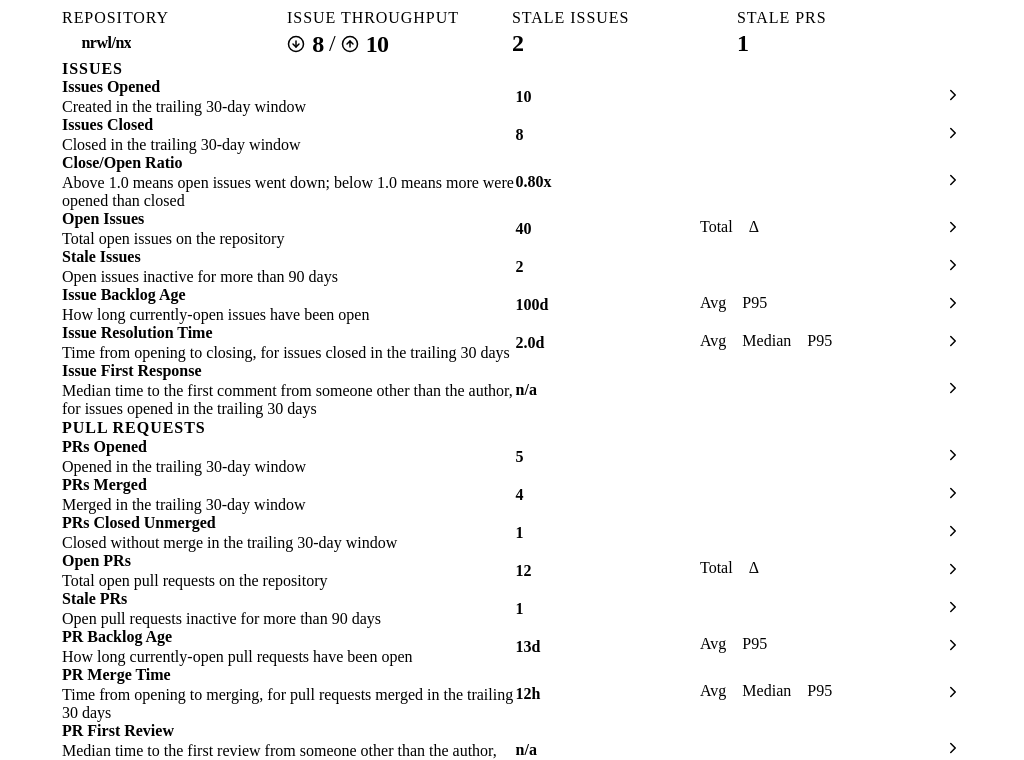
Test: HealthReport › sections and variants › formats durations and switches the headline with the toggle
Expected: the text "100d" is shown, [516,296,548,313]
Click the 1st button "P95": {"x": 755, "y": 303} [734,290,775,317]
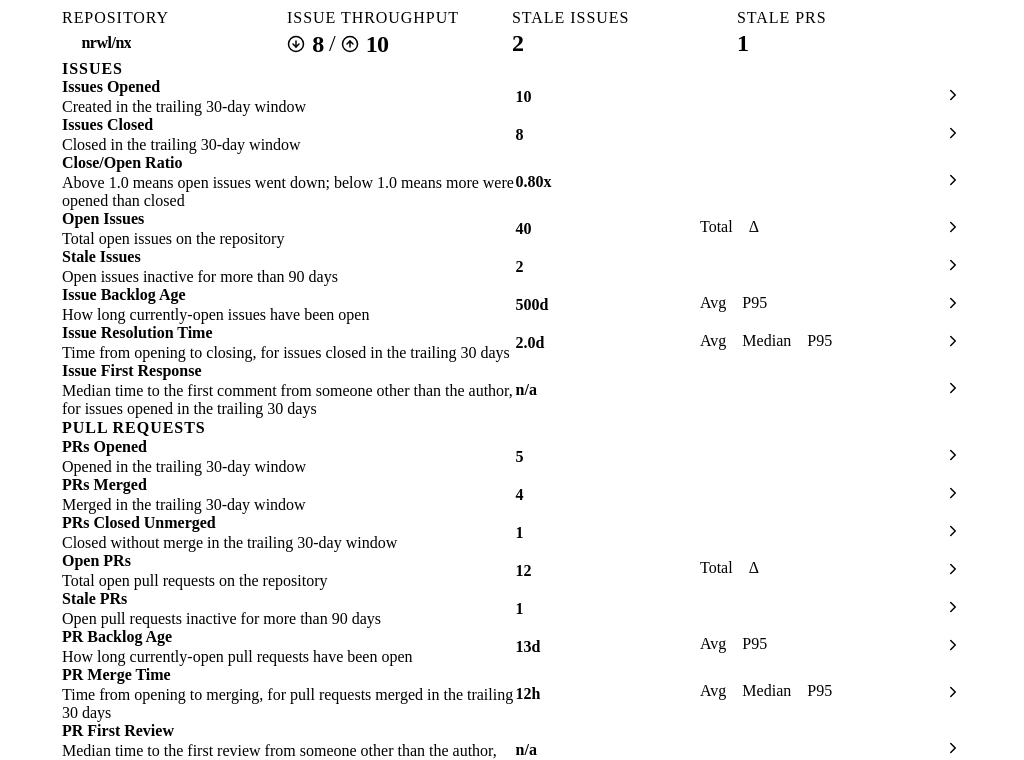
Now the text "500d" is shown, box [516,296,548,313]
